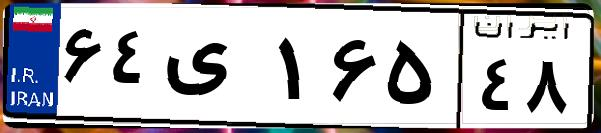1: (270, 28, 330, 110)
4: (475, 38, 525, 113), (110, 28, 158, 98)
5: (385, 28, 445, 110)
6: (330, 28, 385, 110), (57, 26, 110, 100)
8: (525, 38, 570, 115)
ی: (158, 20, 270, 120)
